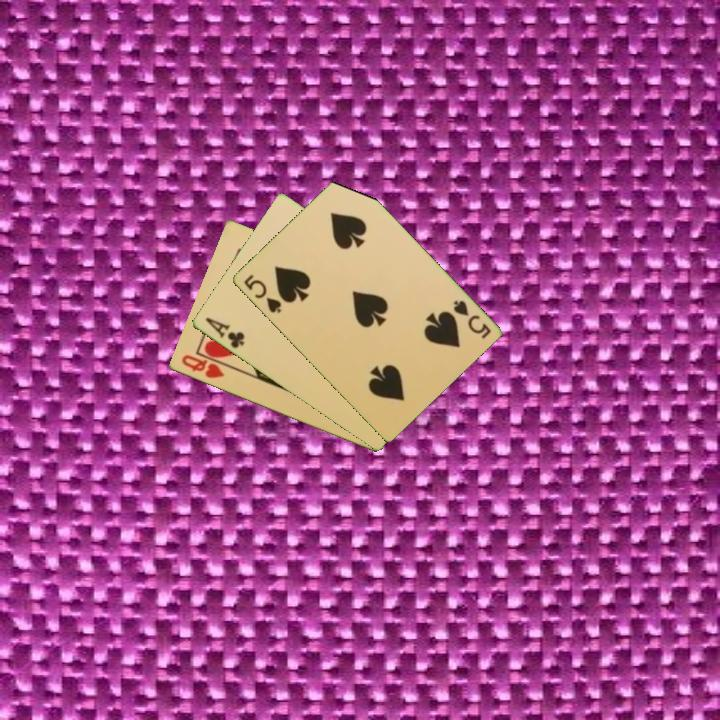5s: (240, 271, 284, 316), (449, 297, 493, 342)
Ac: (201, 314, 247, 351)
Qh: (178, 351, 227, 381)
